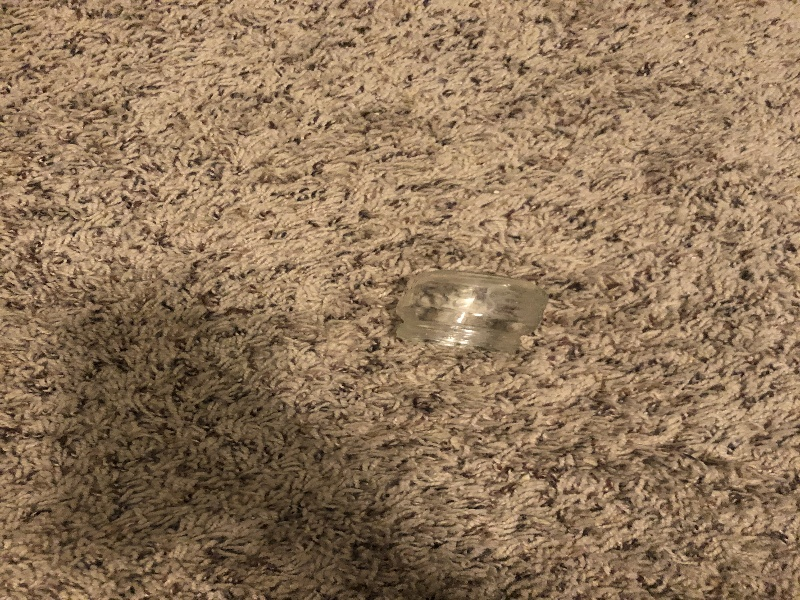glass: (393, 265, 550, 355)
